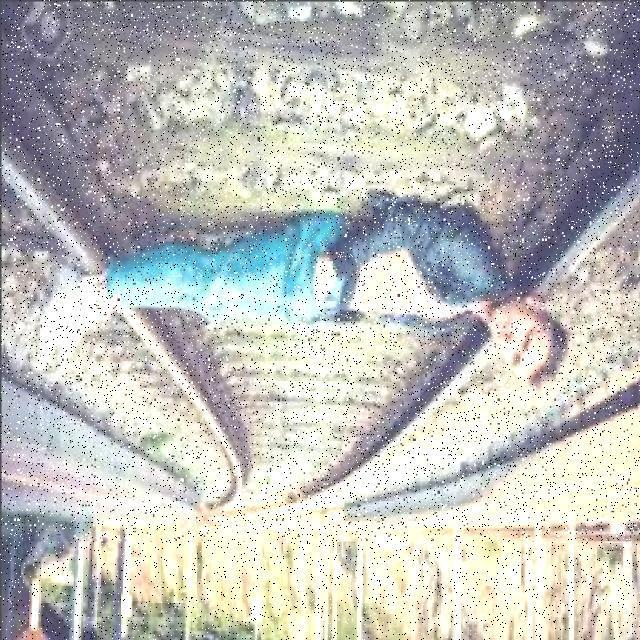danger: (26, 198, 565, 373)
rail: (4, 2, 635, 539)
